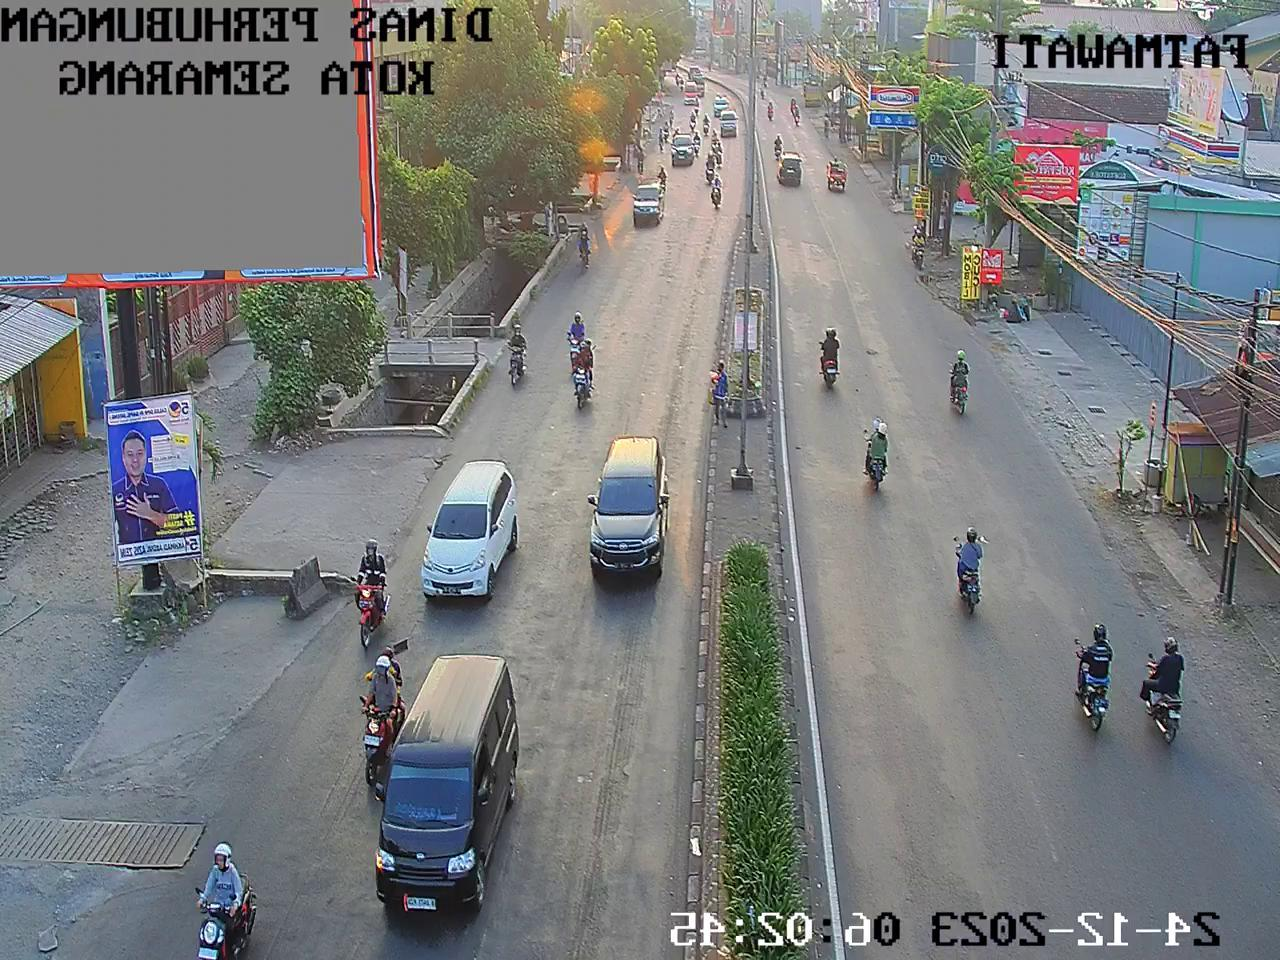car: (361, 646, 527, 924), (578, 430, 672, 594), (402, 459, 521, 588), (625, 178, 664, 226), (670, 132, 695, 165), (720, 109, 738, 134), (712, 94, 729, 112), (682, 83, 696, 101)
motorcycle: (154, 838, 264, 960), (341, 645, 412, 793), (346, 538, 390, 634), (558, 341, 599, 405), (500, 321, 528, 394), (551, 309, 595, 356), (574, 221, 594, 270), (707, 174, 723, 211), (649, 166, 669, 192), (700, 154, 717, 183), (712, 143, 728, 167), (634, 149, 645, 179), (705, 132, 719, 151), (655, 127, 665, 149), (694, 129, 702, 156), (701, 113, 710, 137), (692, 94, 701, 112), (672, 71, 683, 84), (663, 119, 669, 142), (689, 112, 696, 127), (670, 107, 675, 128), (677, 79, 686, 89), (674, 128, 681, 140)
truck: (692, 71, 705, 95)
